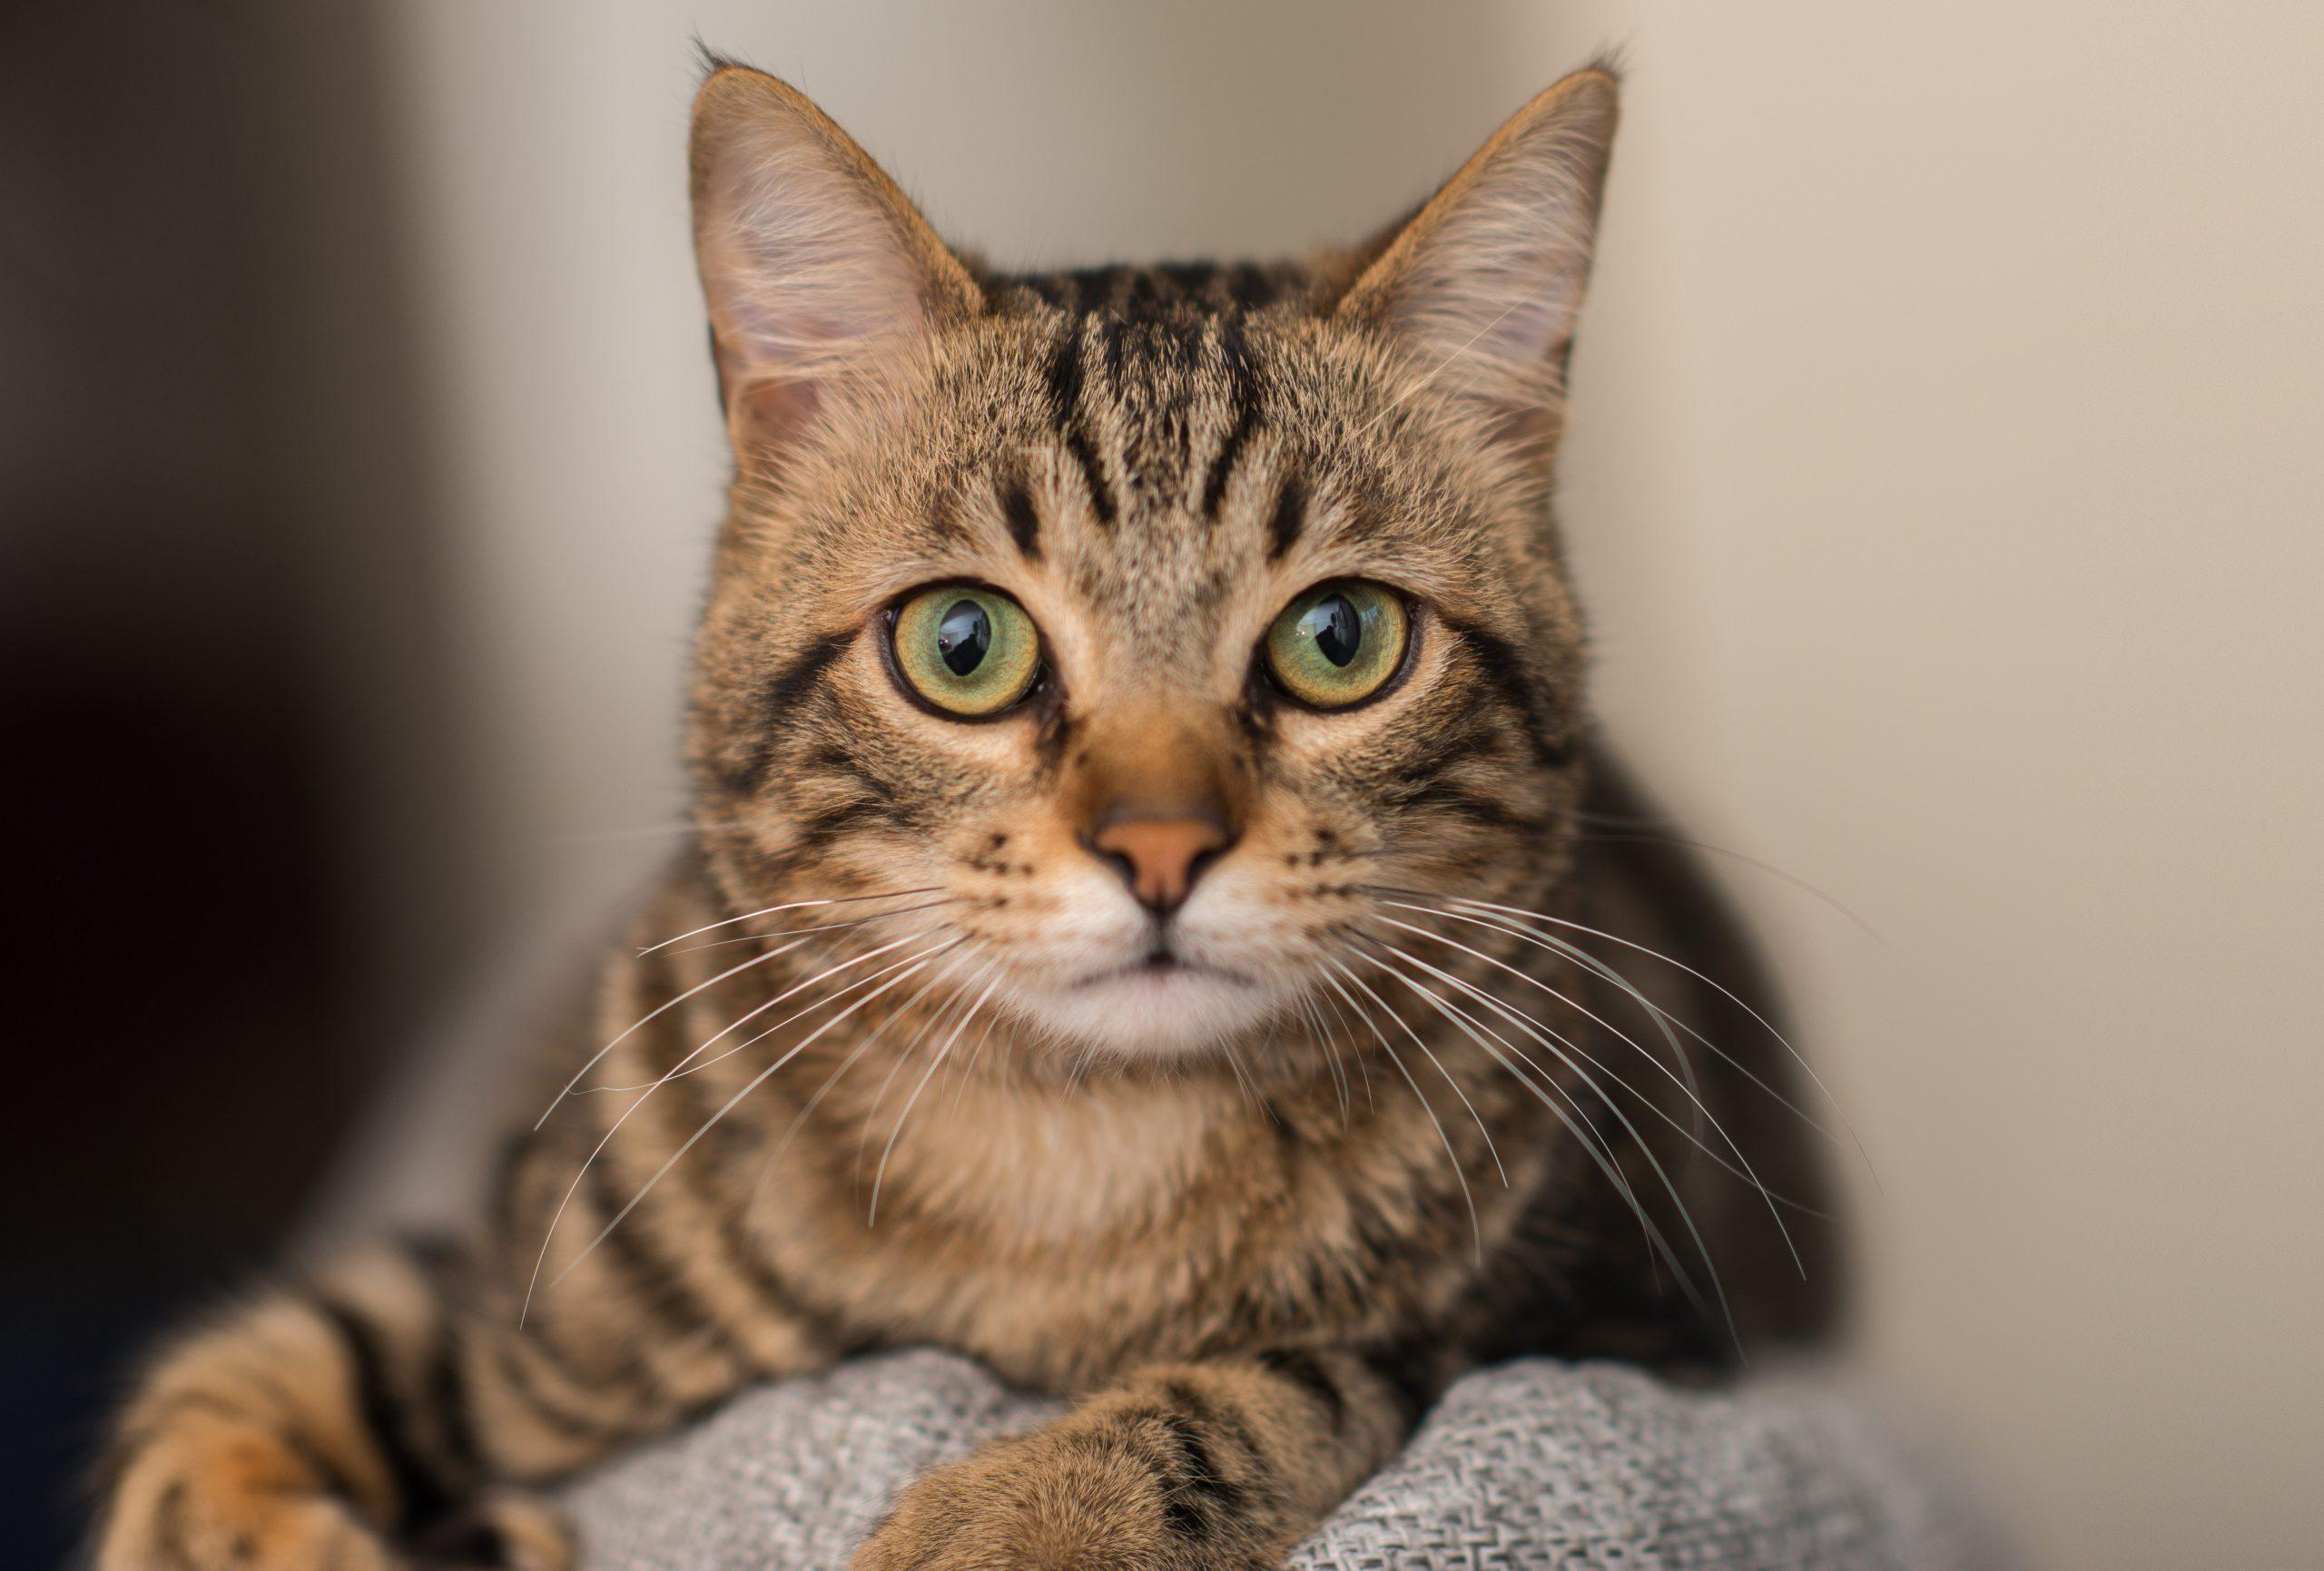Cat: (658, 28, 1645, 992)
